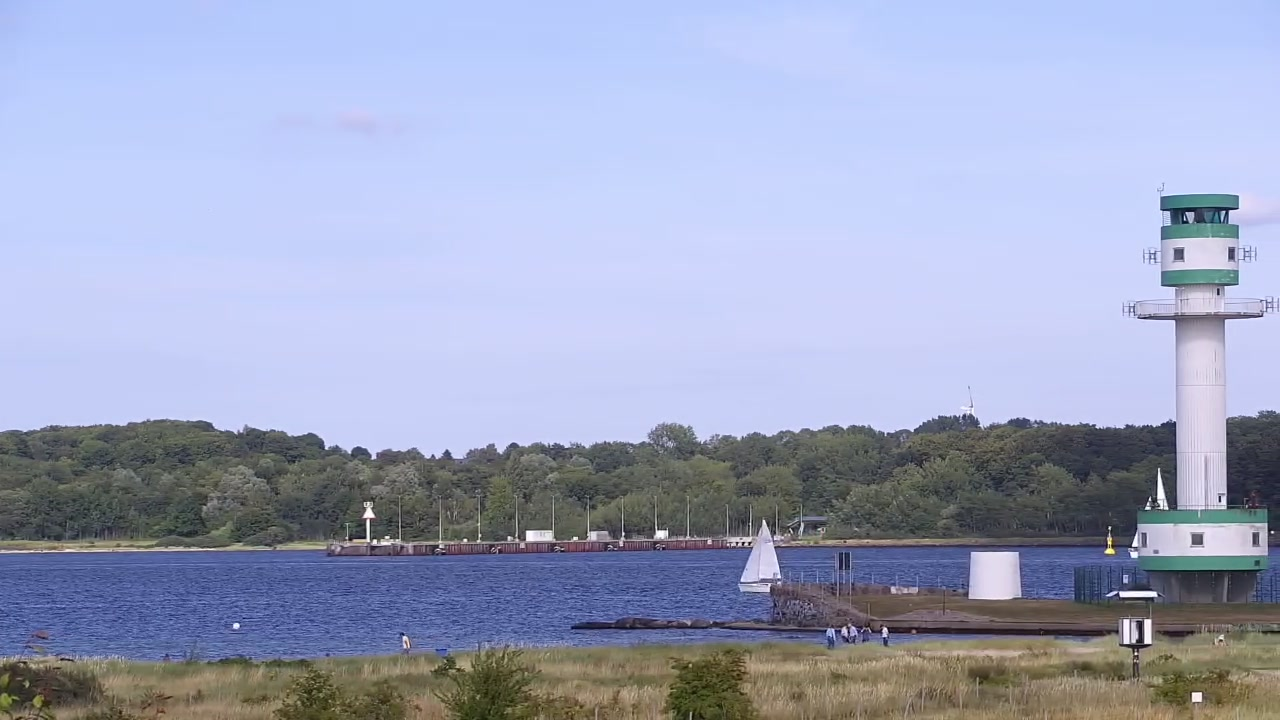human: (399, 631, 412, 654), (825, 624, 836, 649), (860, 621, 873, 642), (880, 623, 891, 645), (847, 622, 858, 643), (840, 623, 849, 643)
sea: (1127, 467, 1169, 559), (737, 516, 783, 594)
